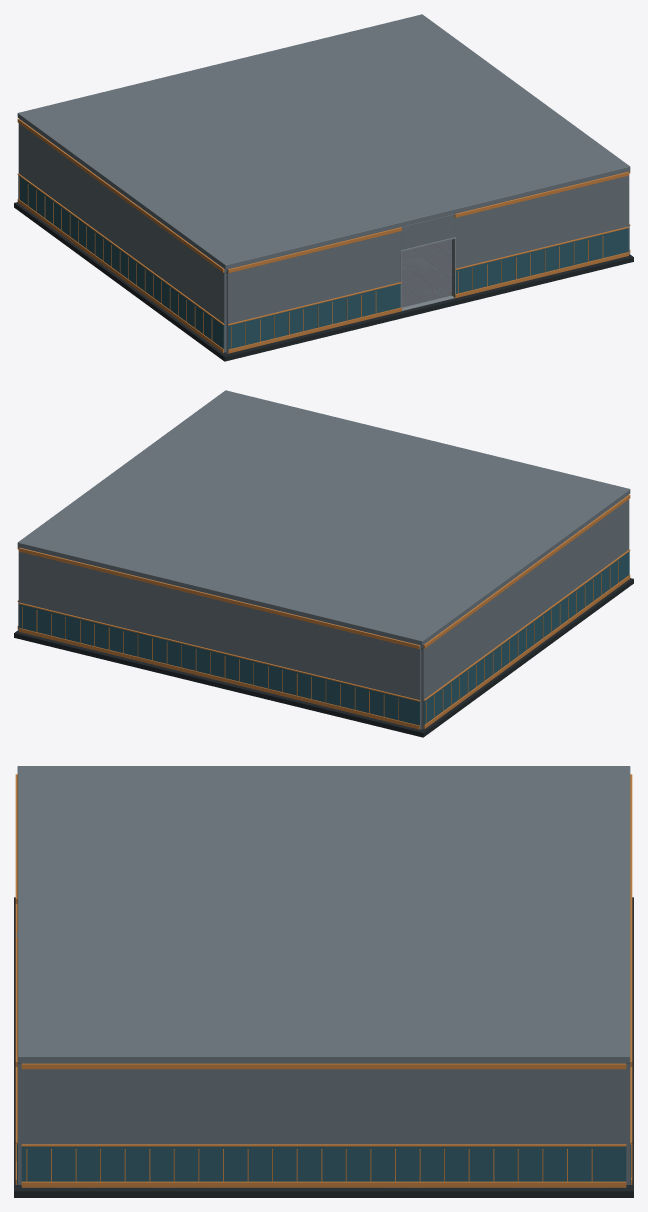
The model's file is voidworks.glb.
3 renders of one model, top to bottom at view 1: azimuth 30°, elevation 25°; view 2: azimuth 150°, elevation 25°; view 3: azimuth 270°, elevation 25°, orthographic. The views are drawn at different scales.
Visible parts, largest first — view 1: VGL_arcade bay long binding, BAKEGROUP floor; view 2: VGL_arcade bay long binding; view 3: VGL_arcade bay long binding, BAKEGROUP floor.
Boxes of the visible parts, bbox=[...] form: VGL_arcade bay long binding: bbox=[14, 14, 633, 361]; BAKEGROUP floor: bbox=[225, 239, 452, 353]; VGL_arcade bay long binding: bbox=[14, 390, 633, 737]; VGL_arcade bay long binding: bbox=[14, 766, 633, 1197]; BAKEGROUP floor: bbox=[22, 1187, 625, 1187].
Size of the model in its own units: 18.4 by 4.08 by 16.4.
Materials: 17 (17 with a texture image).
